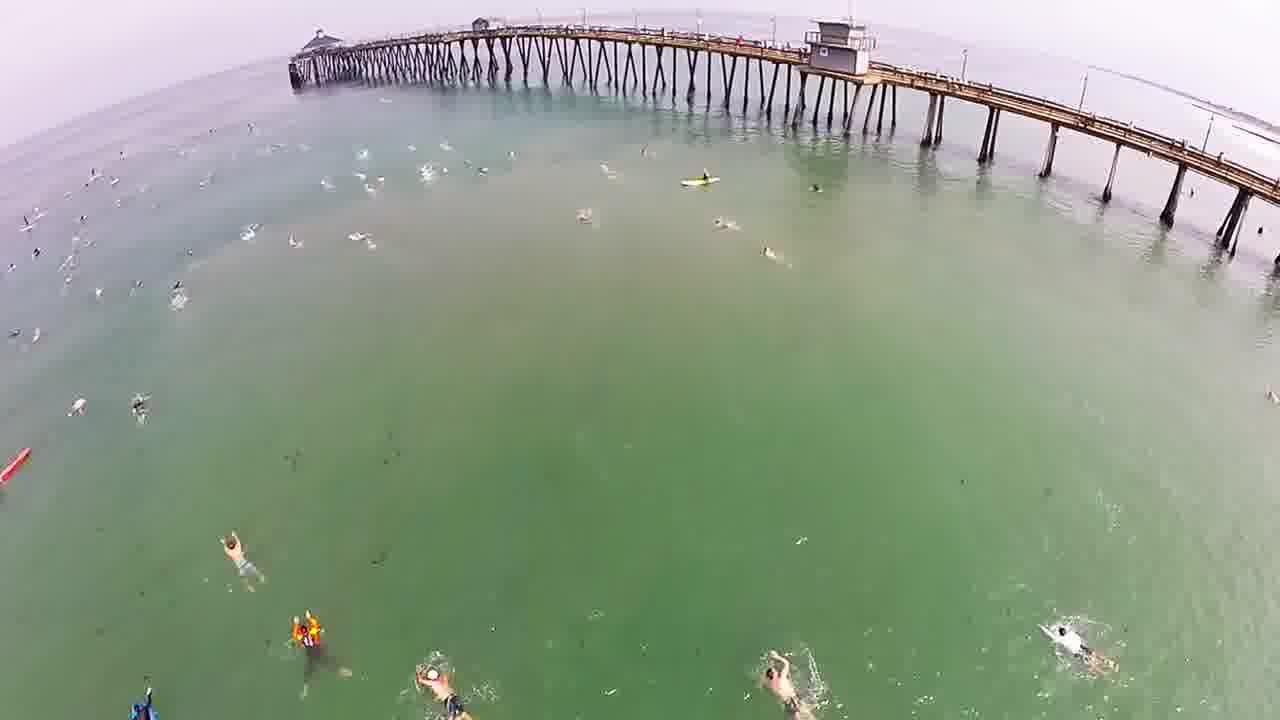swimmer: (741, 640, 809, 698), (275, 612, 343, 661), (204, 521, 266, 574), (1037, 609, 1089, 657), (408, 653, 459, 695)
